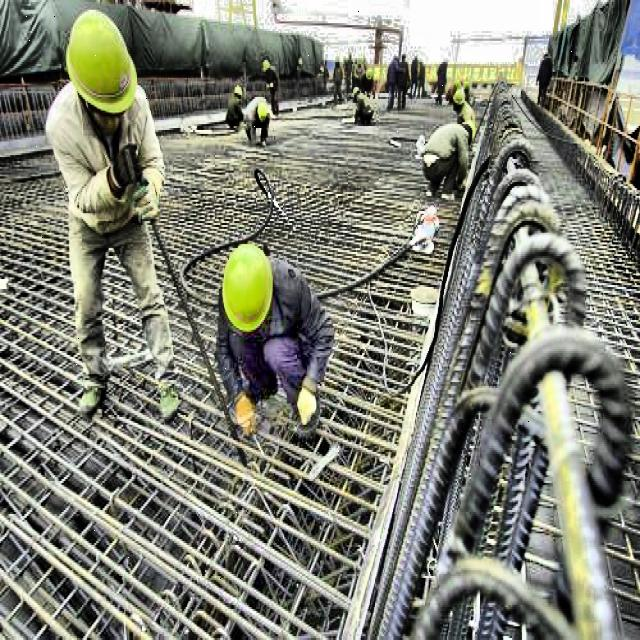helmet: (62, 8, 140, 132), (219, 236, 278, 340), (457, 110, 481, 150), (449, 86, 467, 112), (254, 97, 270, 126), (229, 79, 243, 103), (261, 54, 274, 76), (351, 79, 361, 103), (362, 64, 374, 82)
